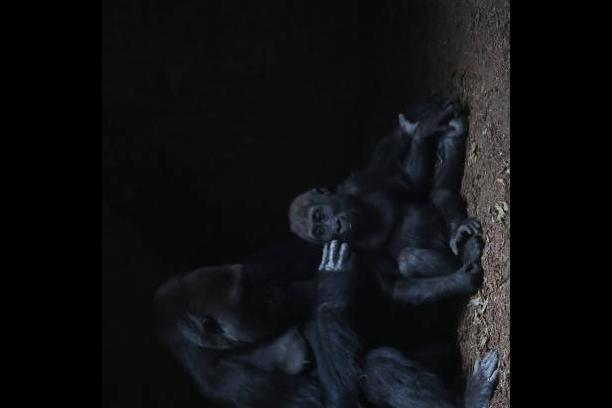gorille_Autres: (137, 235, 470, 408), (283, 70, 496, 296)
